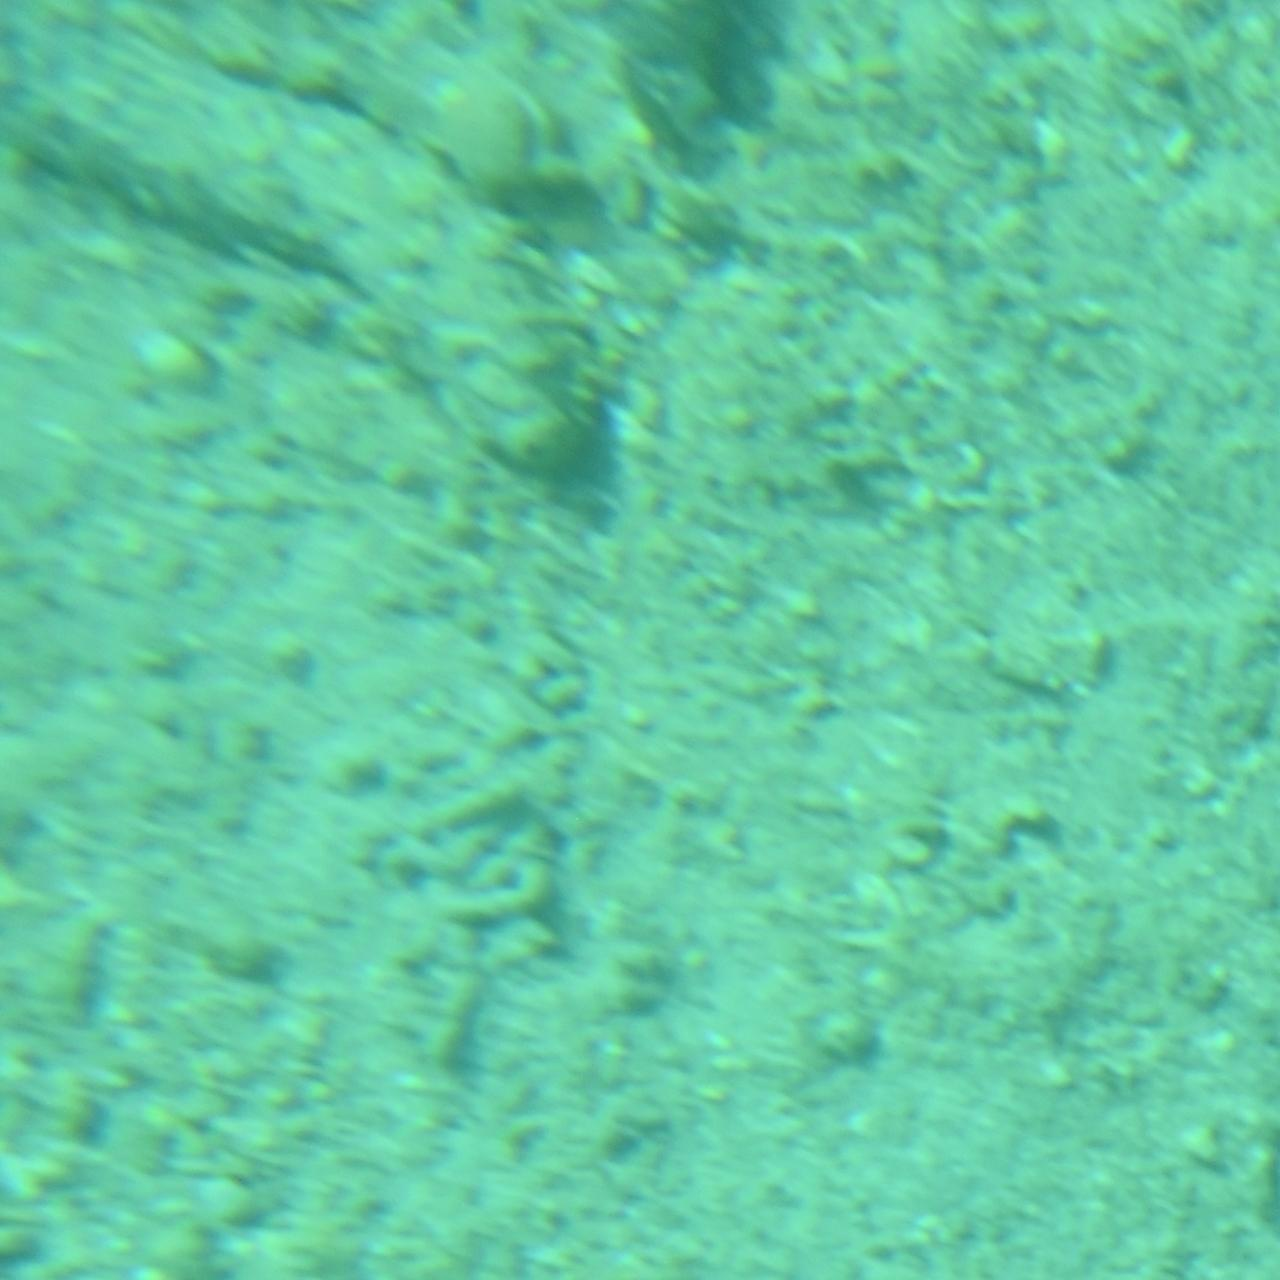Holothuria tubulosa: (0, 0, 652, 503)
